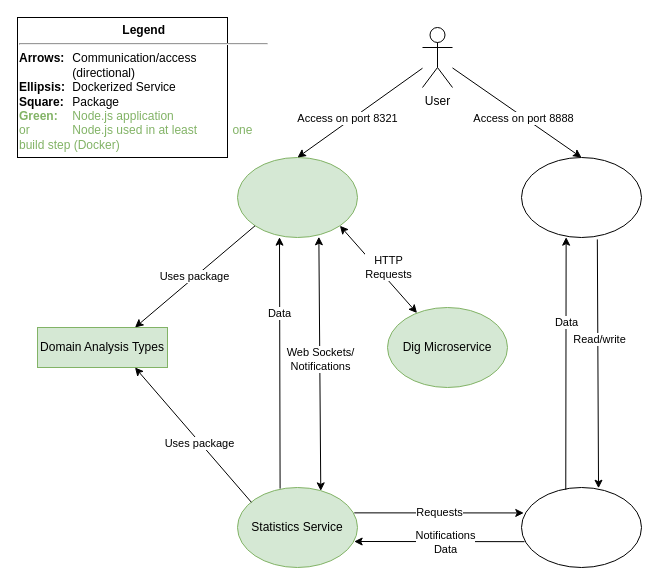
The diagram is 659 pixels wide and 585 high, and some of its shapes have lost their labels. The centre of each missing label's shape, as x and y in pixels:
Dashboard: (x=297, y=197)
Postgres DB: (x=581, y=527)
PySpark: (x=581, y=197)
